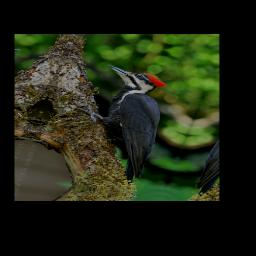Woodpecker: (52, 61, 191, 188)
